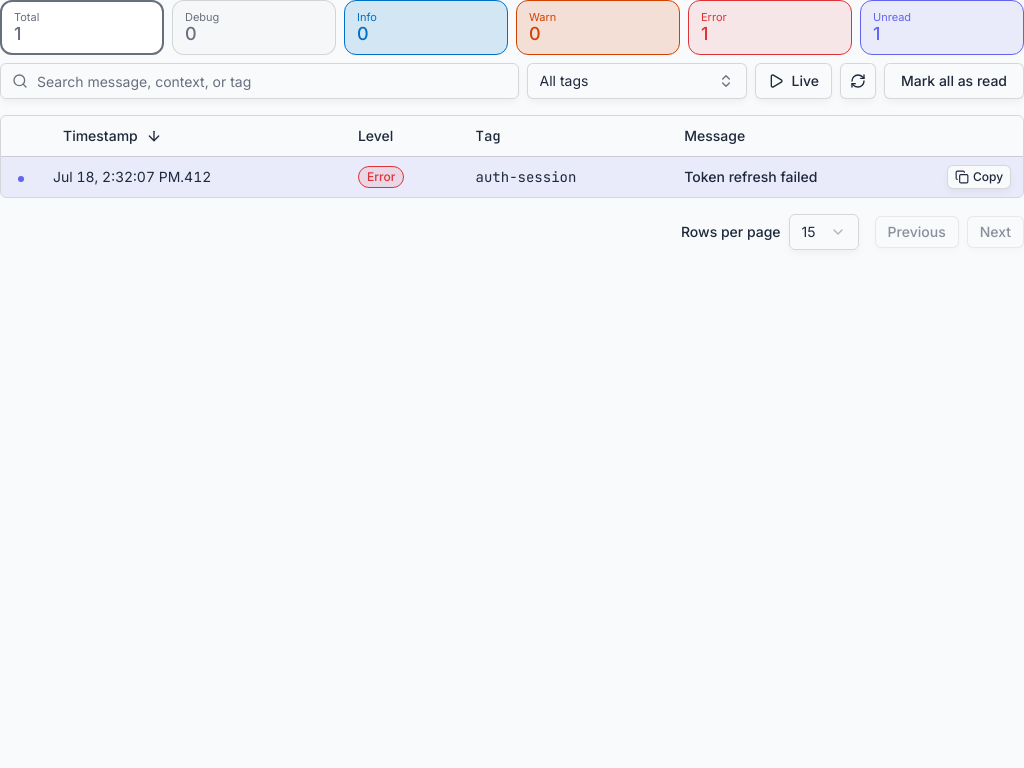
it: LogsTable › should open the detail dialog and mark an unread row read when clicked
This screenshot has width=1024, height=768.
Click the text "Token refresh failed" at (751, 176), box 684,168 -> 817,184
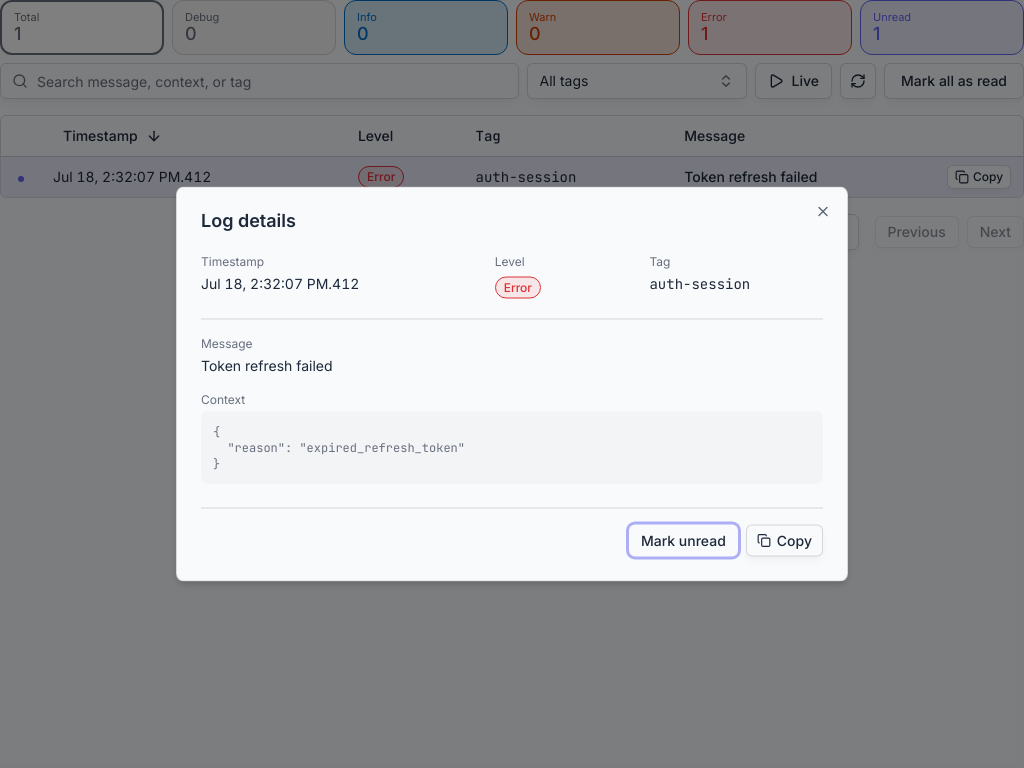
Check: the dialog is shown, box 176,186 -> 848,582
